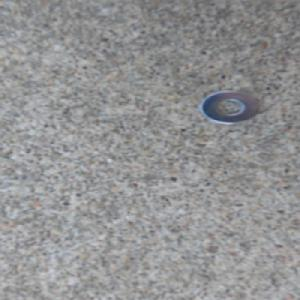Washer: (195, 88, 263, 127)
